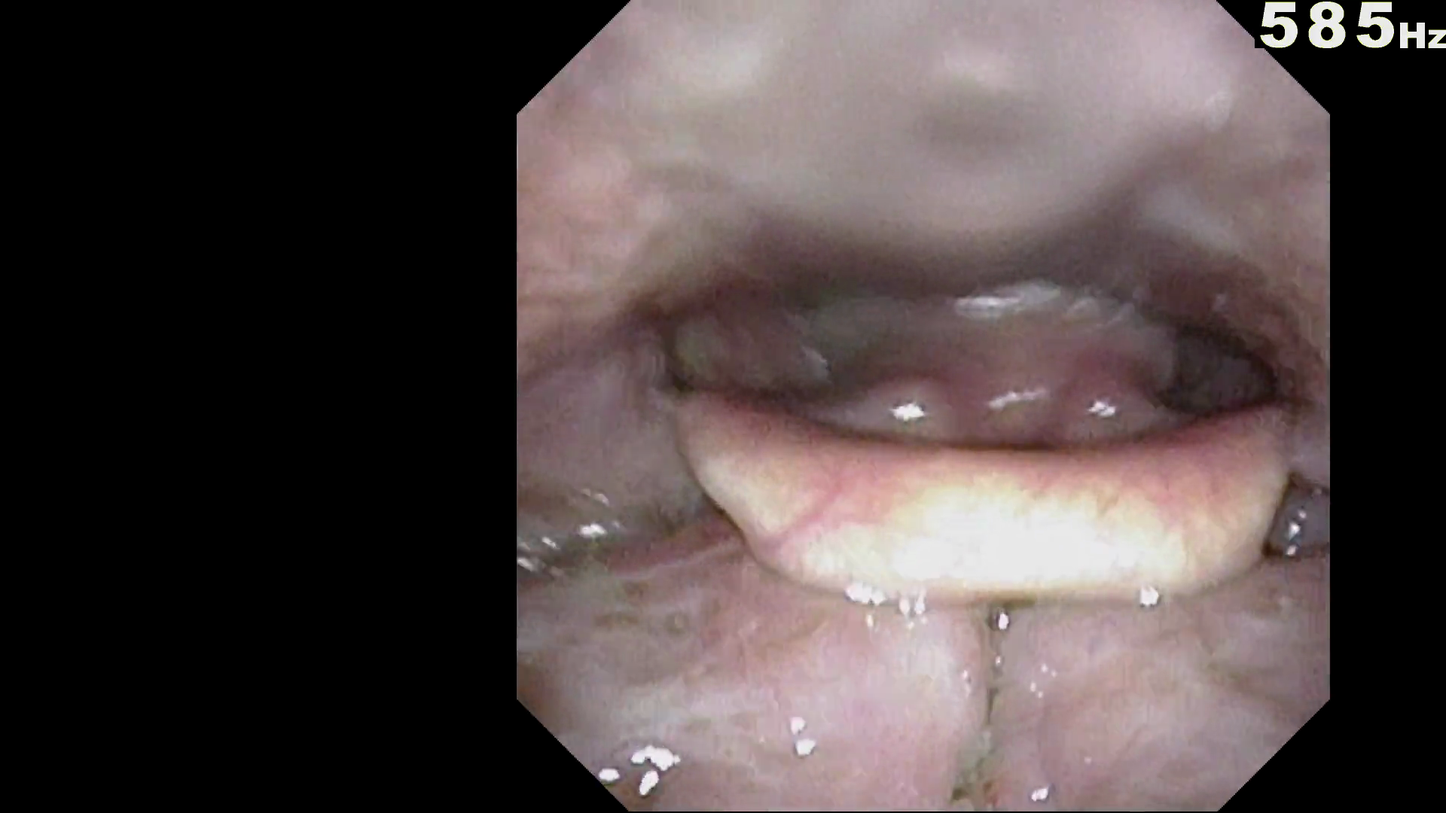epiglottis: (650, 366, 1323, 642)
trachea: (934, 425, 1064, 497)
